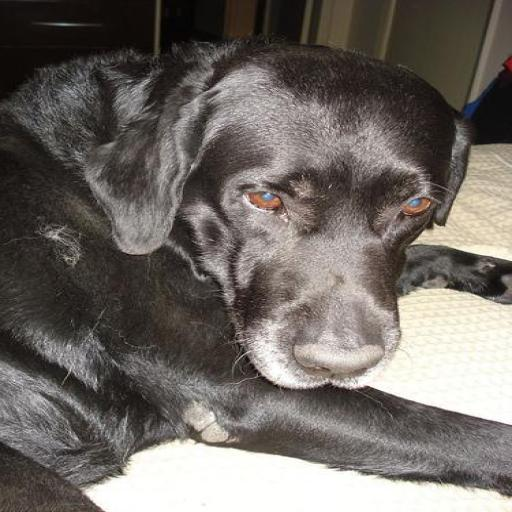dog_face: (52, 53, 442, 380)
